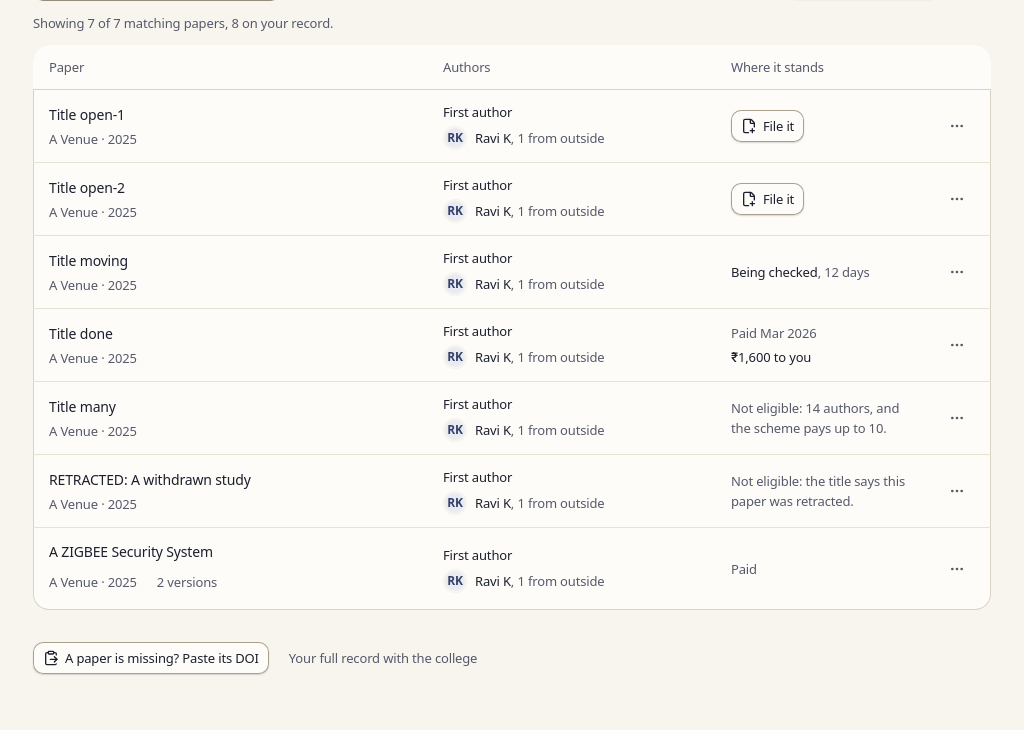
Test: My papers › folds the same paper listed twice under one row with a version count
The width and height of the screenshot is (1024, 730).
(page scrolled)
Check: the button "Title open-1" is shown, box [49,103,125,127]
Check: the text "Another version" is not shown
Click the button "2 versions": [187, 582] box [145,566,229,598]
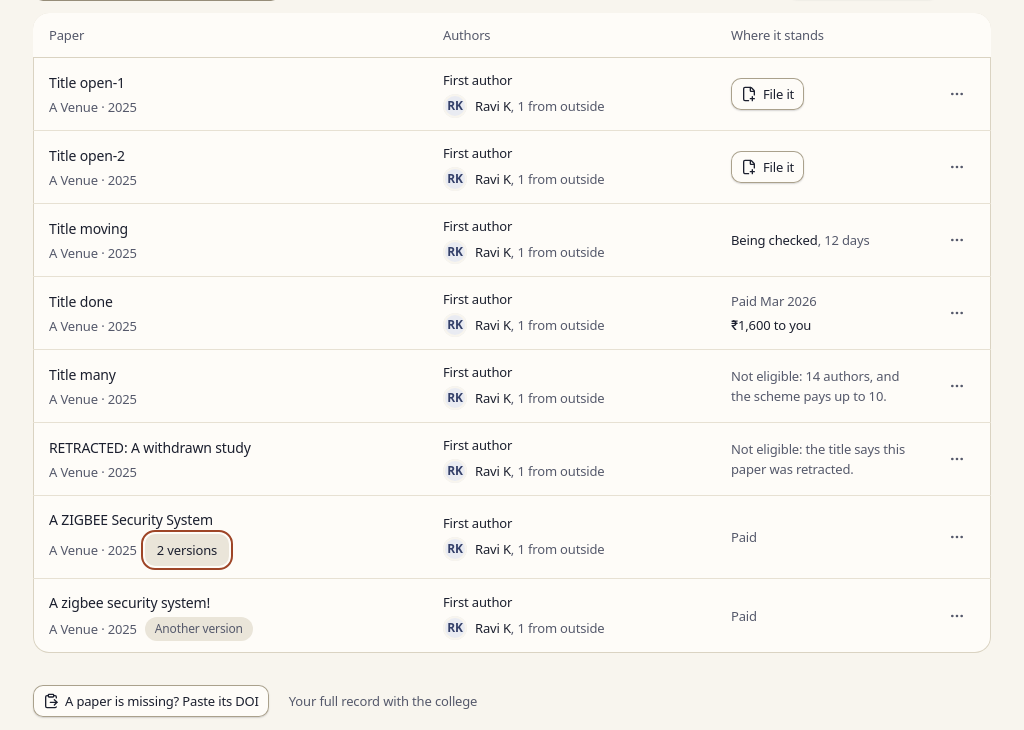
Check: the button "2 versions" is expanded, box [145,534,229,566]
Check: the text "Another version" is shown once, box [145,617,253,641]
